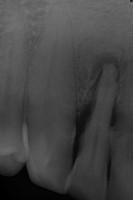Furcation Involvement: (90, 52, 122, 91)
